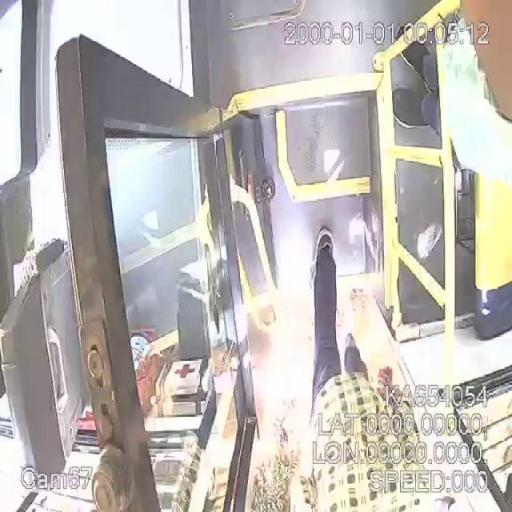persona: (303, 226, 434, 512)
